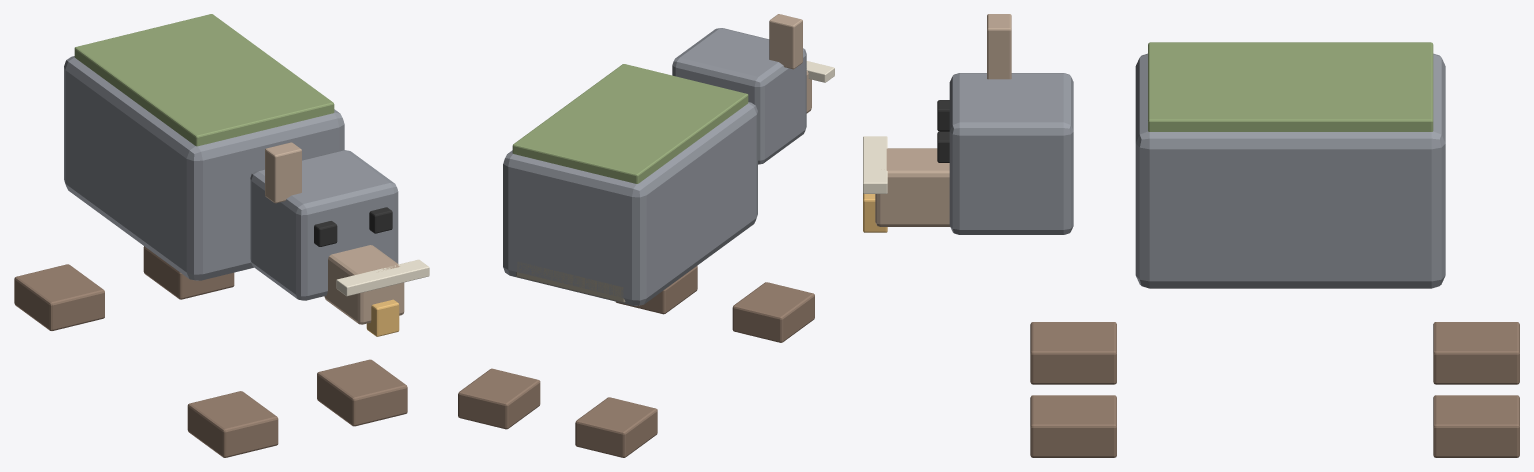
The model's file is marsh_rat.glb.
3 renders of one model, left to right at view 1: azimuth 30°, elevation 25°; view 2: azimuth 150°, elevation 25°; view 3: azimuth 270°, elevation 25°, orthographic. The views are drawn at different scales.
Parts seen in each view (by area): view 1: Body_torso, Body_algae, Head_skull, Leg_FL_paw, Leg_BL_paw, Leg_FR_paw, Head_snout, Head_ear_L, Leg_BR_paw, Head_whiskers, Head_tooth, Head_eye_R (+1 smaller); view 2: Body_torso, Body_algae, Head_skull, Leg_BR_paw, Leg_BL_paw, Leg_FL_paw, Head_ear_L, Body_underbelly, Leg_FR_paw, Head_whiskers; view 3: Body_torso, Body_algae, Head_skull, Leg_BR_paw, Leg_BL_paw, Leg_FR_paw, Leg_FL_paw, Head_snout, Head_ear_L, Head_whiskers.
Part boxes in pixels (x1,y1,x2,y2): Body_torso: [64, 56, 344, 280]; Body_algae: [74, 14, 334, 146]; Head_skull: [250, 150, 398, 300]; Leg_FL_paw: [187, 391, 278, 457]; Leg_BL_paw: [14, 264, 104, 330]; Leg_FR_paw: [317, 359, 407, 426]; Head_snout: [324, 245, 404, 324]; Head_ear_L: [265, 142, 301, 203]; Leg_BR_paw: [143, 246, 234, 299]; Head_whiskers: [336, 259, 429, 296]; Head_tooth: [366, 299, 399, 336]; Head_eye_R: [369, 207, 392, 233]; Body_torso: [503, 102, 757, 305]; Body_algae: [512, 64, 748, 183]; Head_skull: [672, 28, 806, 164]; Leg_BR_paw: [458, 368, 540, 429]; Leg_BL_paw: [575, 397, 657, 457]; Leg_FL_paw: [732, 282, 814, 342]; Head_ear_L: [769, 14, 802, 69]; Body_underbelly: [516, 261, 625, 302]; Leg_FR_paw: [616, 266, 697, 314]; Head_whiskers: [806, 61, 834, 82]; Body_torso: [1135, 53, 1445, 288]; Body_algae: [1148, 42, 1433, 131]; Head_skull: [949, 73, 1073, 234]; Leg_BR_paw: [1433, 395, 1519, 457]; Leg_BL_paw: [1433, 322, 1519, 384]; Leg_FR_paw: [1030, 395, 1116, 457]; Leg_FL_paw: [1030, 322, 1116, 384]; Head_snout: [875, 148, 949, 226]; Head_ear_L: [987, 14, 1011, 79]; Head_whiskers: [863, 136, 887, 193].
Size of the model in its own units: 0.4 by 0.64 by 1.06.
